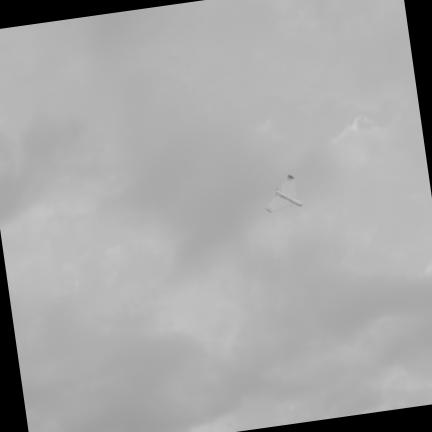Shahed: (265, 174, 302, 212)
